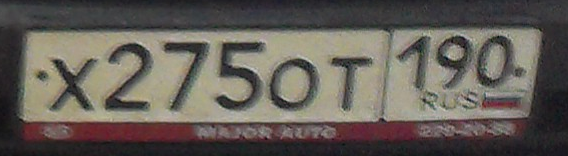character: (213, 35, 268, 120), (161, 34, 209, 119), (268, 50, 321, 122), (47, 53, 102, 120), (108, 37, 152, 118), (329, 50, 379, 119), (433, 31, 474, 93), (475, 30, 517, 90), (397, 31, 432, 94)
